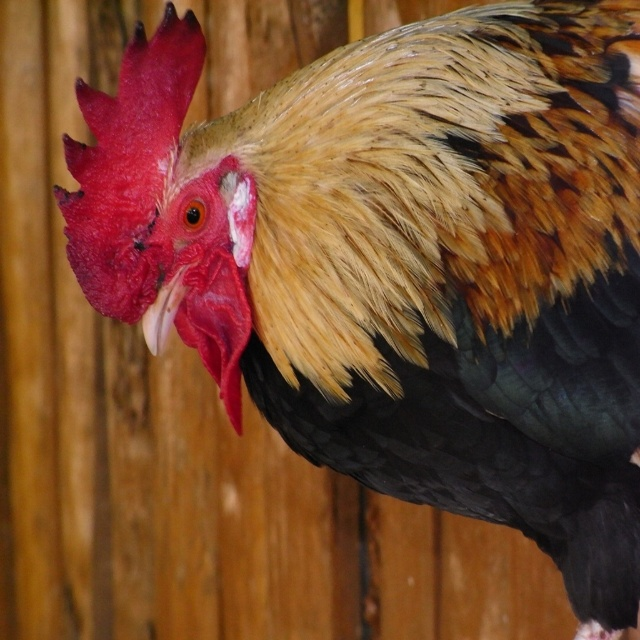Chicken: (53, 1, 639, 631)
